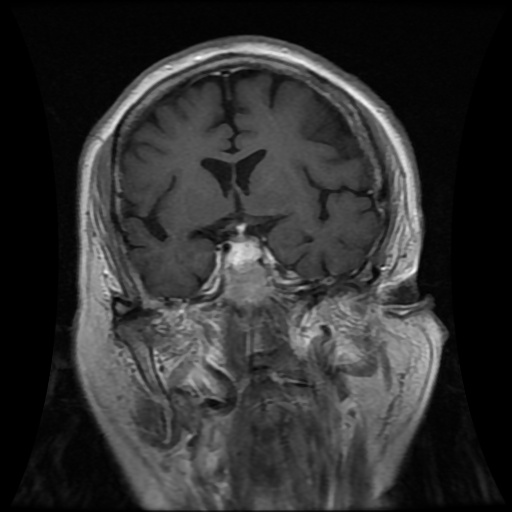pituitary: (228, 238, 261, 264)
